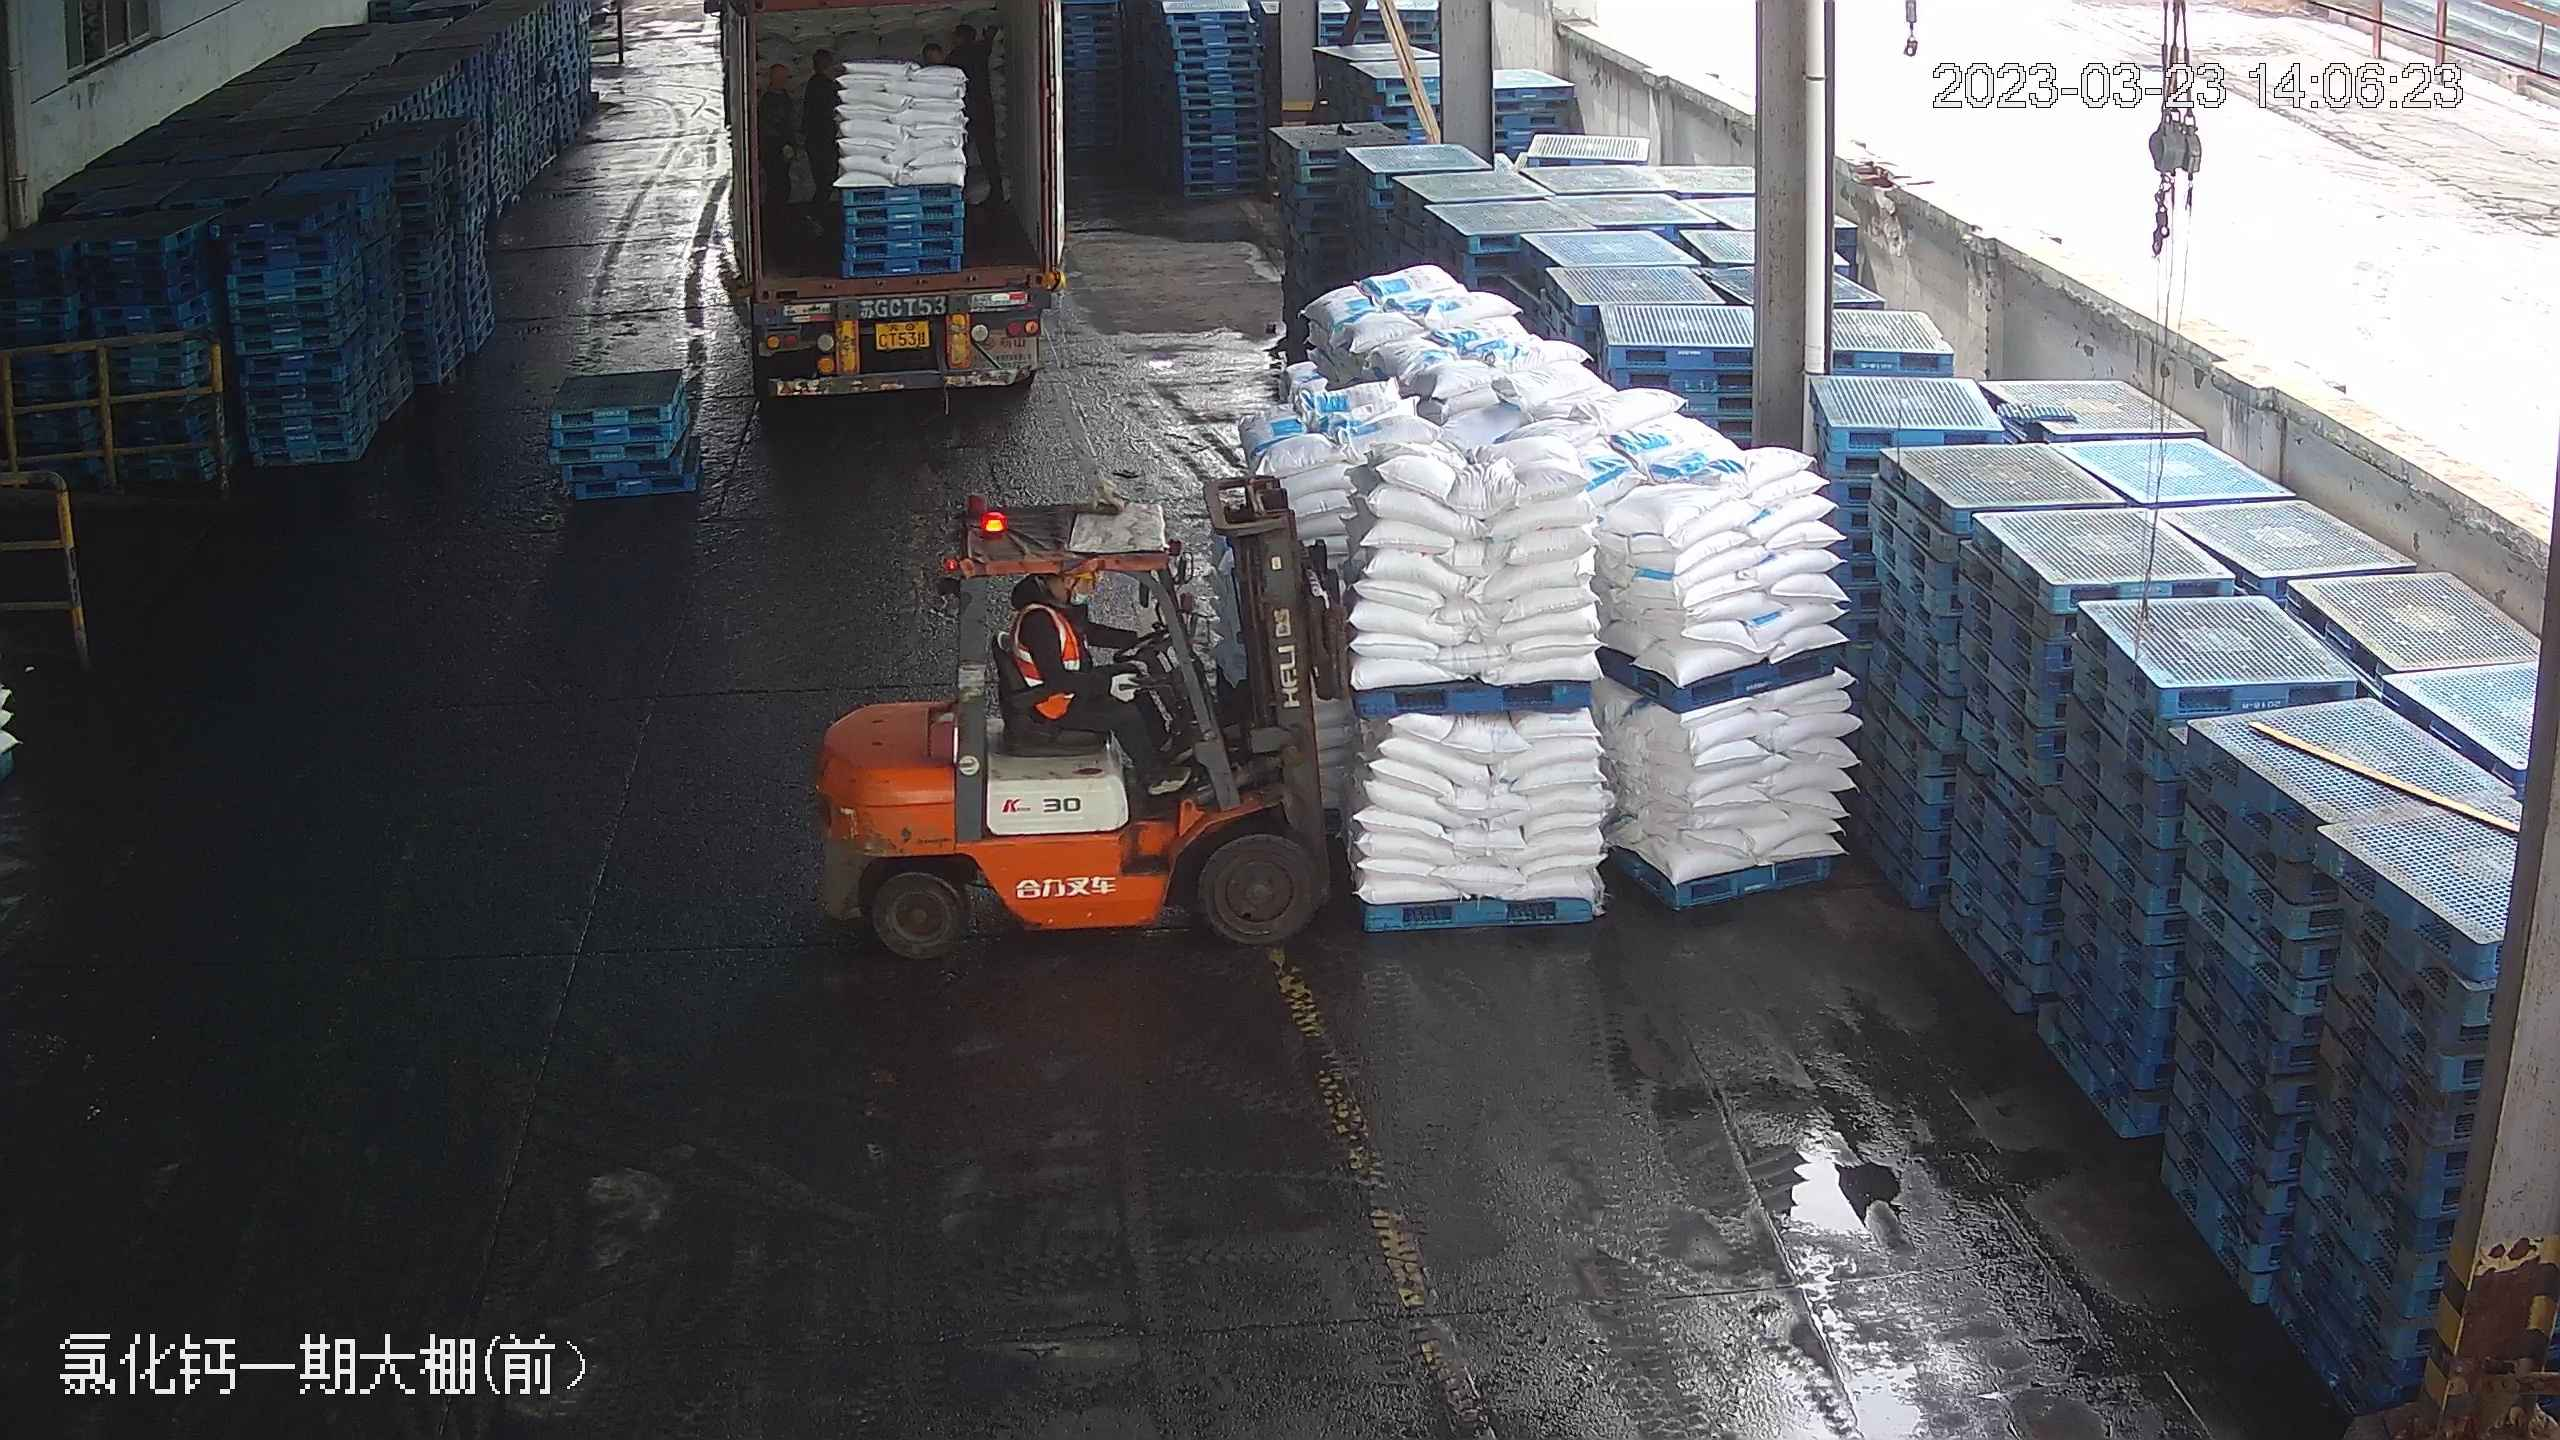head: (1013, 569, 1108, 640), (751, 58, 796, 128), (805, 46, 845, 116)
people: (1002, 571, 1185, 785), (949, 21, 1010, 209), (802, 45, 846, 227), (755, 58, 794, 230)
truck: (721, 9, 1081, 404)
